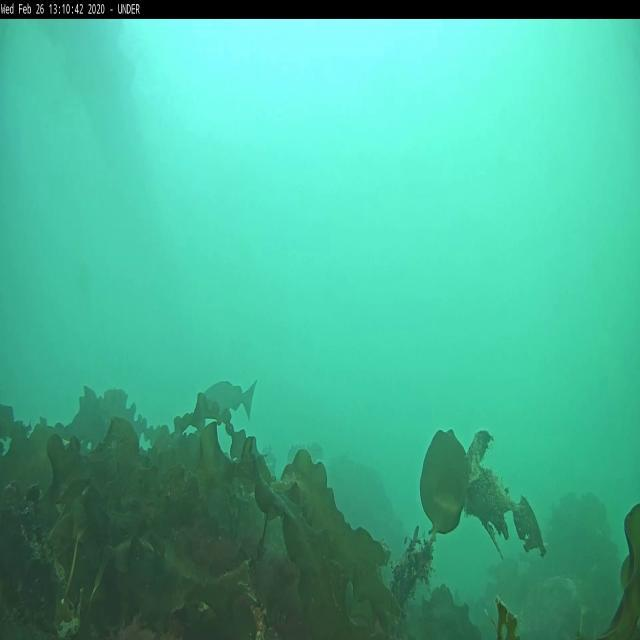fish: (201, 377, 256, 419)
